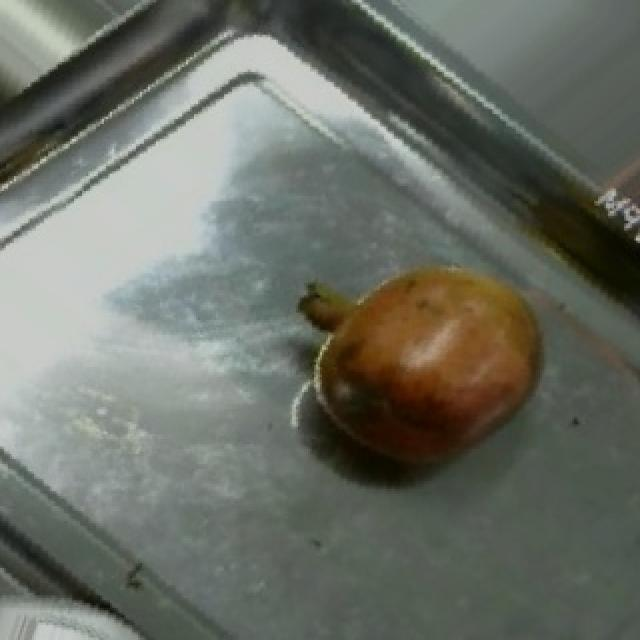fruit: (278, 236, 564, 498)
